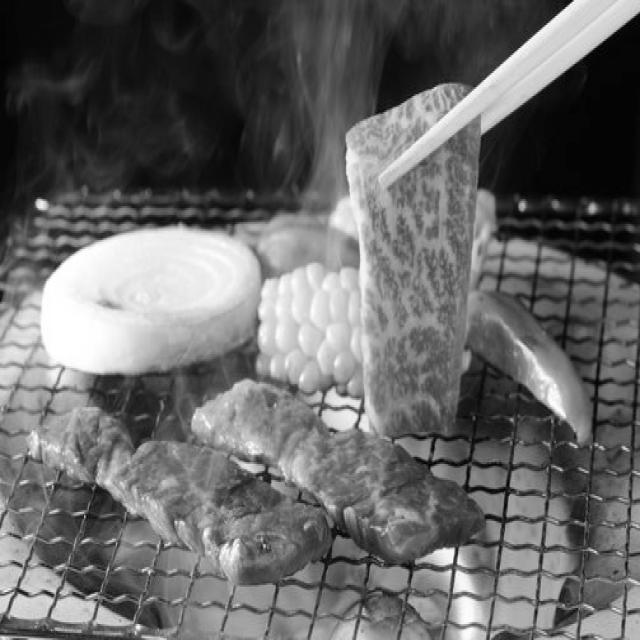NG raw beef,: (339, 80, 486, 446)
